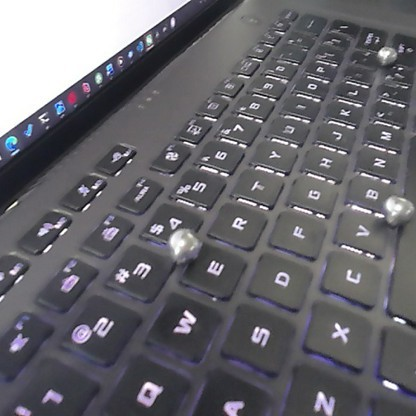ironball: (163, 224, 207, 264), (377, 192, 415, 228), (374, 42, 397, 69)
